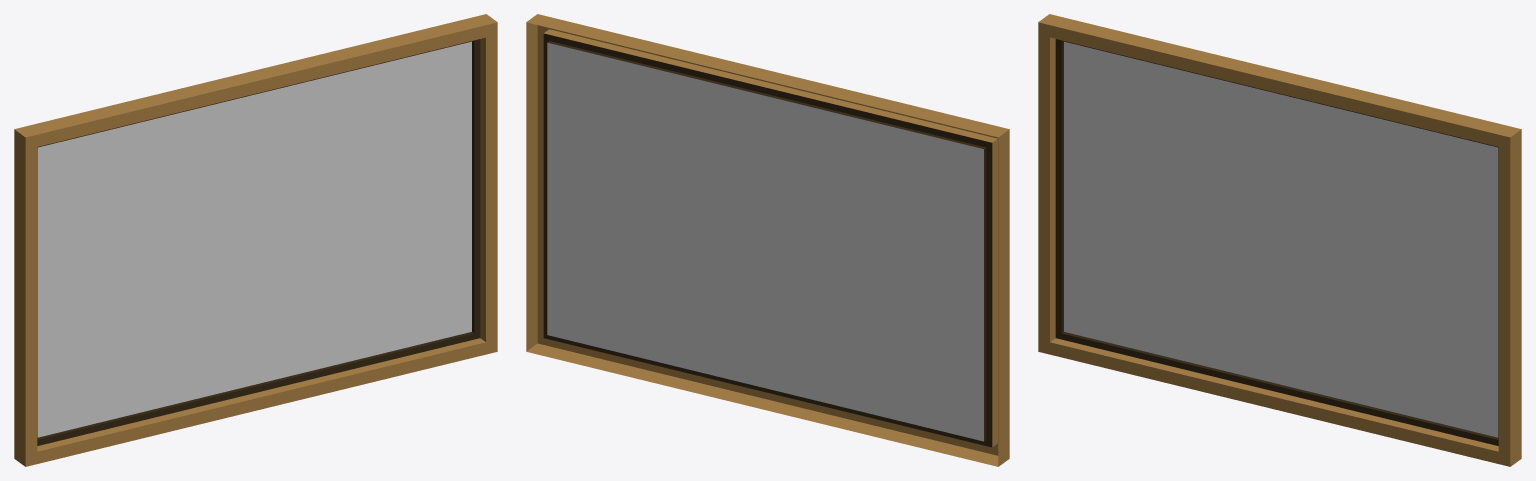
The model's file is nastenka.fbx.
3 views of the same model, side by side, from view 1: azimuth 30°, elevation 25°; view 2: azimuth 150°, elevation 25°; view 3: azimuth 330°, elevation 25° (orthographic).
Visible parts, largest first — view 1: Nastenka; view 2: Nastenka; view 3: Nastenka.
Boxes of the visible parts, x1,y1,x2,y2 form: Nastenka: [14, 14, 497, 466]; Nastenka: [526, 14, 1009, 466]; Nastenka: [1038, 14, 1521, 466].
Size of the model in its own units: 120 by 80 by 5.
